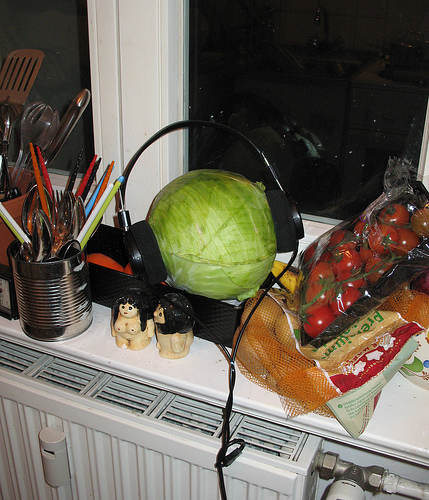cabbage: (141, 167, 281, 302)
